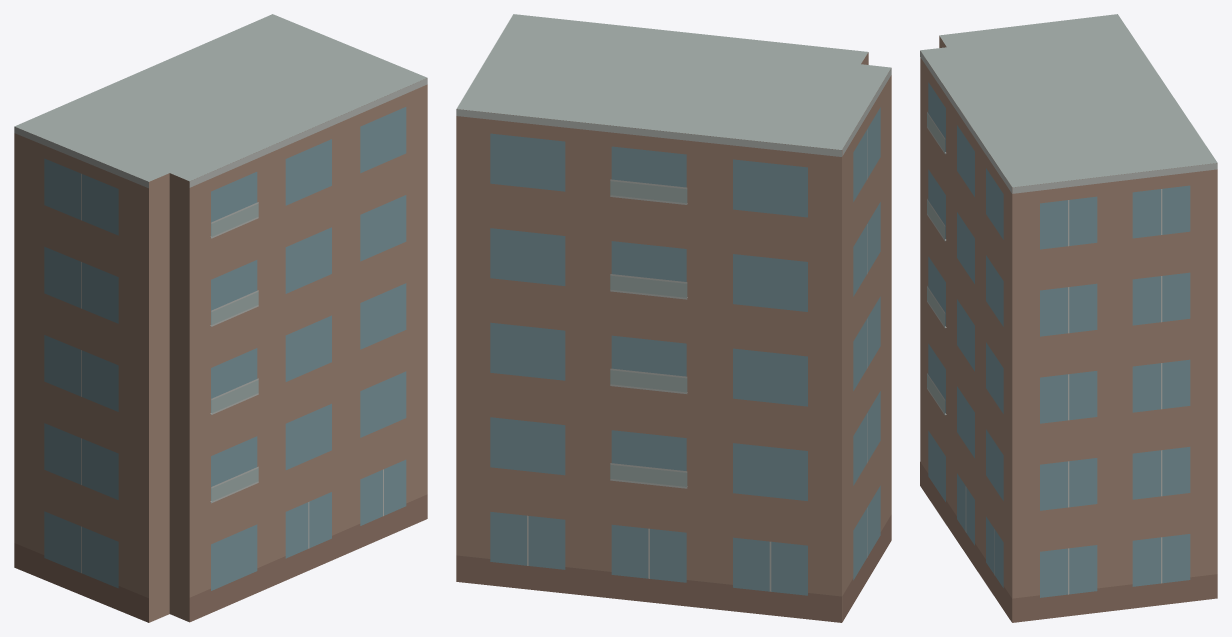
Rendered from survey-upis-32557645.glb.
3 views of the same model, side by side, from view 1: azimuth 30°, elevation 25°; view 2: azimuth 150°, elevation 25°; view 3: azimuth 270°, elevation 25° (orthographic). The views are drawn at different scales.
Visible parts, largest first — view 1: survey-upis-32557645.tmp; view 2: survey-upis-32557645.tmp; view 3: survey-upis-32557645.tmp.
Boxes of the visible parts, x1=… form: survey-upis-32557645.tmp: x1=14, y1=14, x2=427, y2=622; survey-upis-32557645.tmp: x1=456, y1=14, x2=891, y2=622; survey-upis-32557645.tmp: x1=920, y1=14, x2=1217, y2=622.
Bounding box in the file's own units: 14.06 × 16.45 × 10.2.
